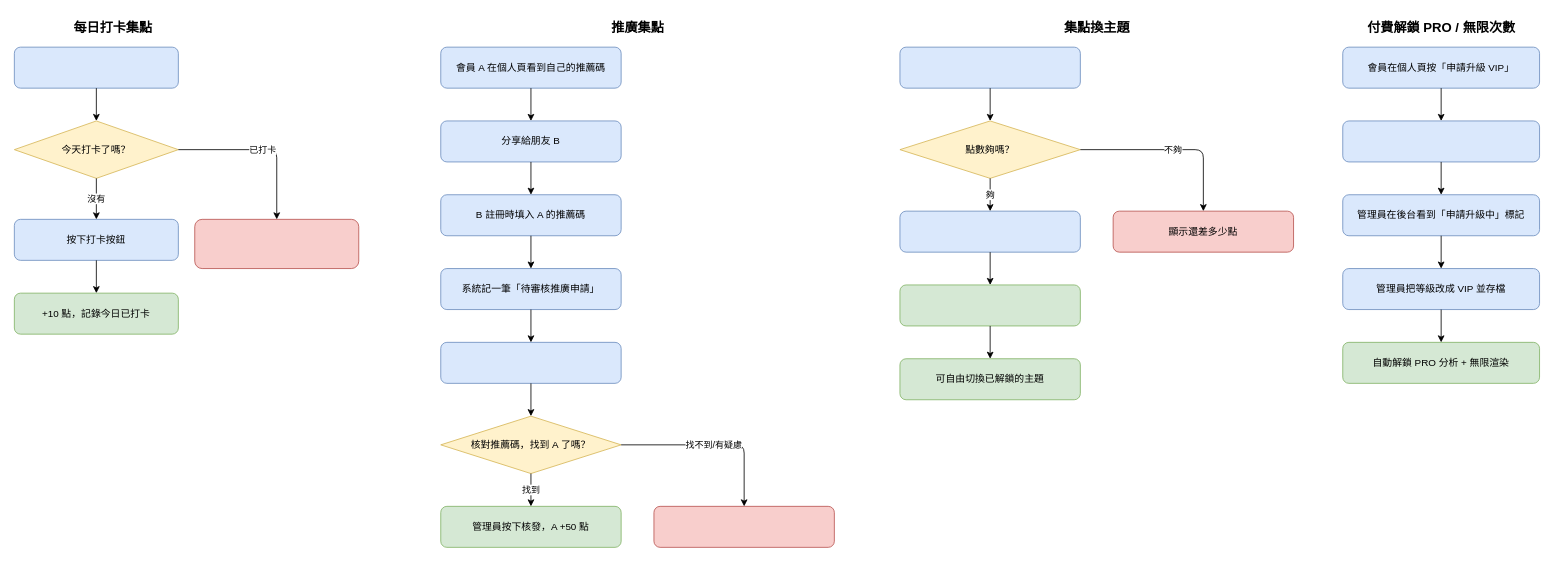
Some shapes in this 1554 by 562 pixel diagram are drawn without their labels. Each missing label, with the centre of its shape:
扣點數，解鎖該主題: the point at 989,305
按下兌換: the point at 989,231
按鈕顯示「今日已打卡」，不可再按: the point at 276,244
會員在個人頁看到主題選單: the point at 989,67
會員登入: the point at 96,67
管理員在後台看到申請清單: the point at 530,362
管理員忽略／退回: the point at 743,526
記一筆待審核: the point at 1441,141
